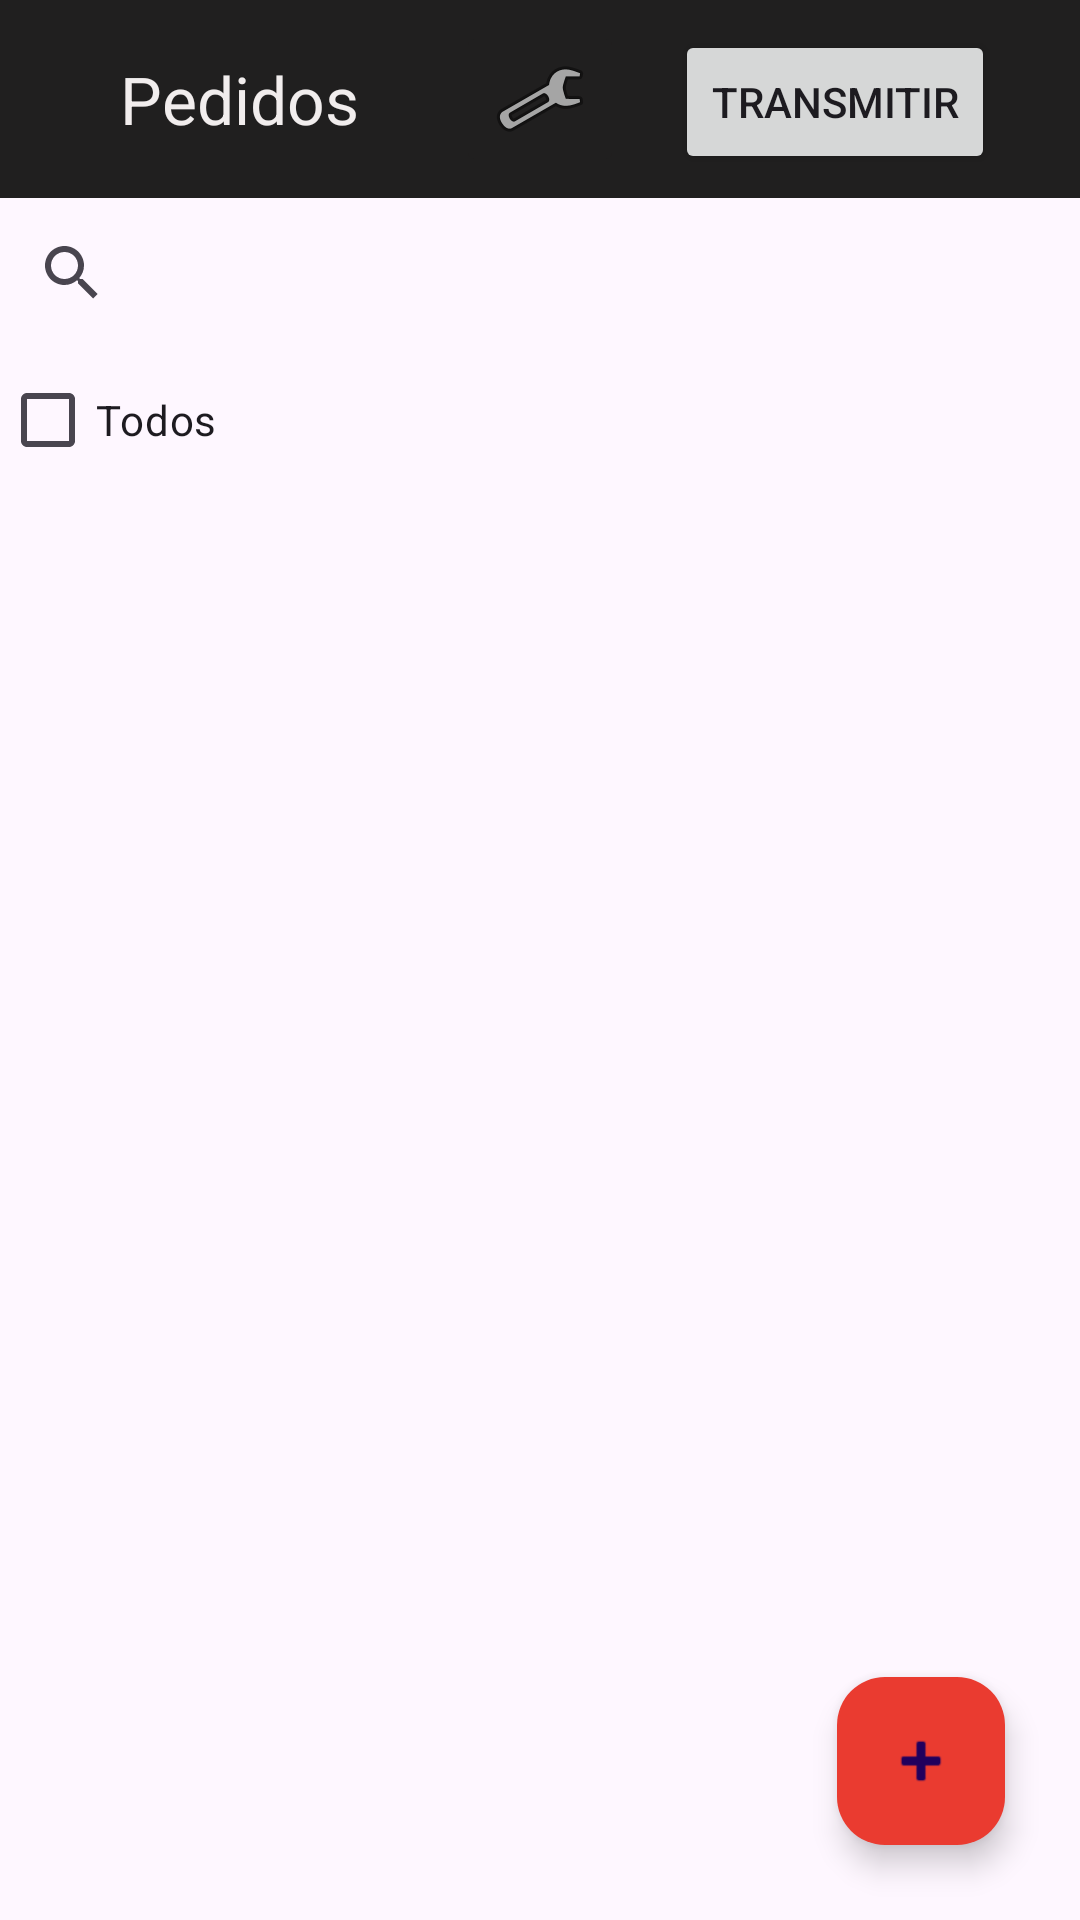

Named icons in this screenshot (1080x1920) and their centers, (x,y):
Adicionar: (921,1761)
manage: (540,99)
